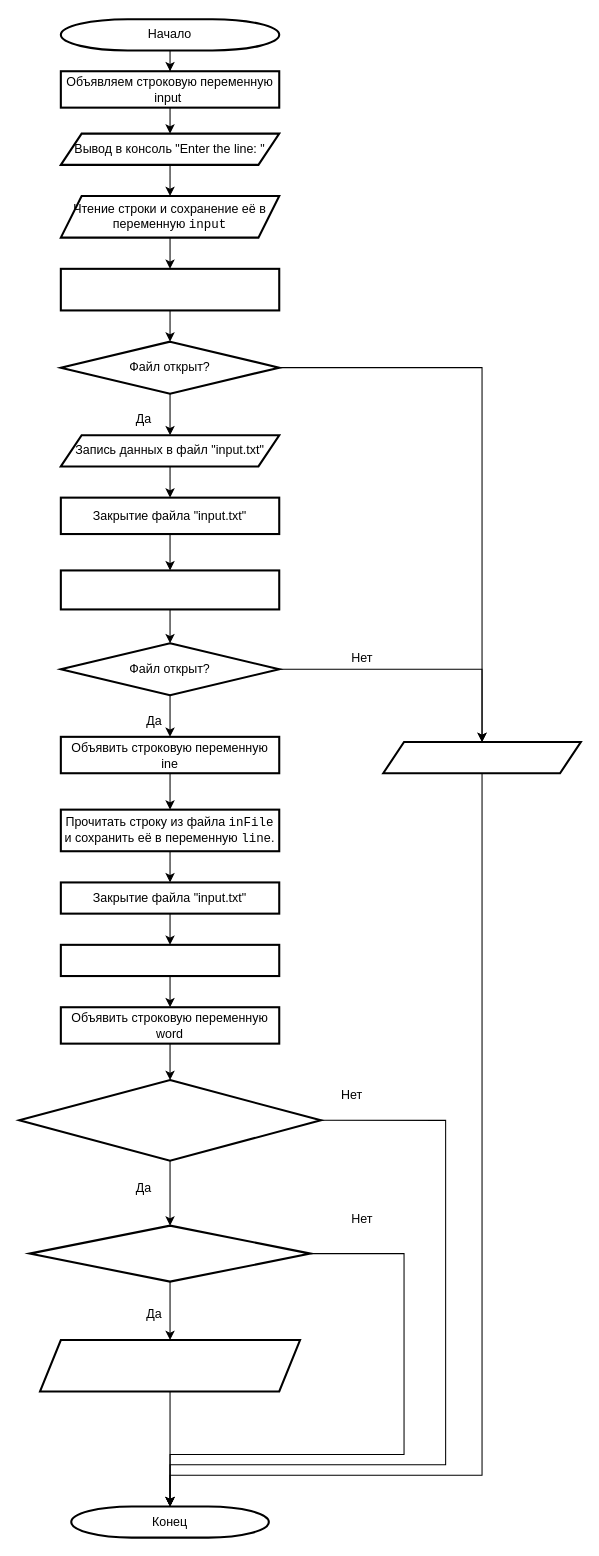
This 599x1556 diagram has some shape labels left out. Each missing label, with the centre of its shape:
В ss есть слова, считывать их по одному в переменную word?: (169,1119)
В строке word найден символ 'x'?: (169,1253)
Вывести "Words containing the letter 'x':" word - слово содержащее букву 'x': (169,1365)
Вывести в консоль "ERROR!": (481,757)
Открытие файла "input.txt" для чтения: (169,589)
Создание и открытие файла "input.txt": (169,289)
Создание потока ss(line): (169,960)
